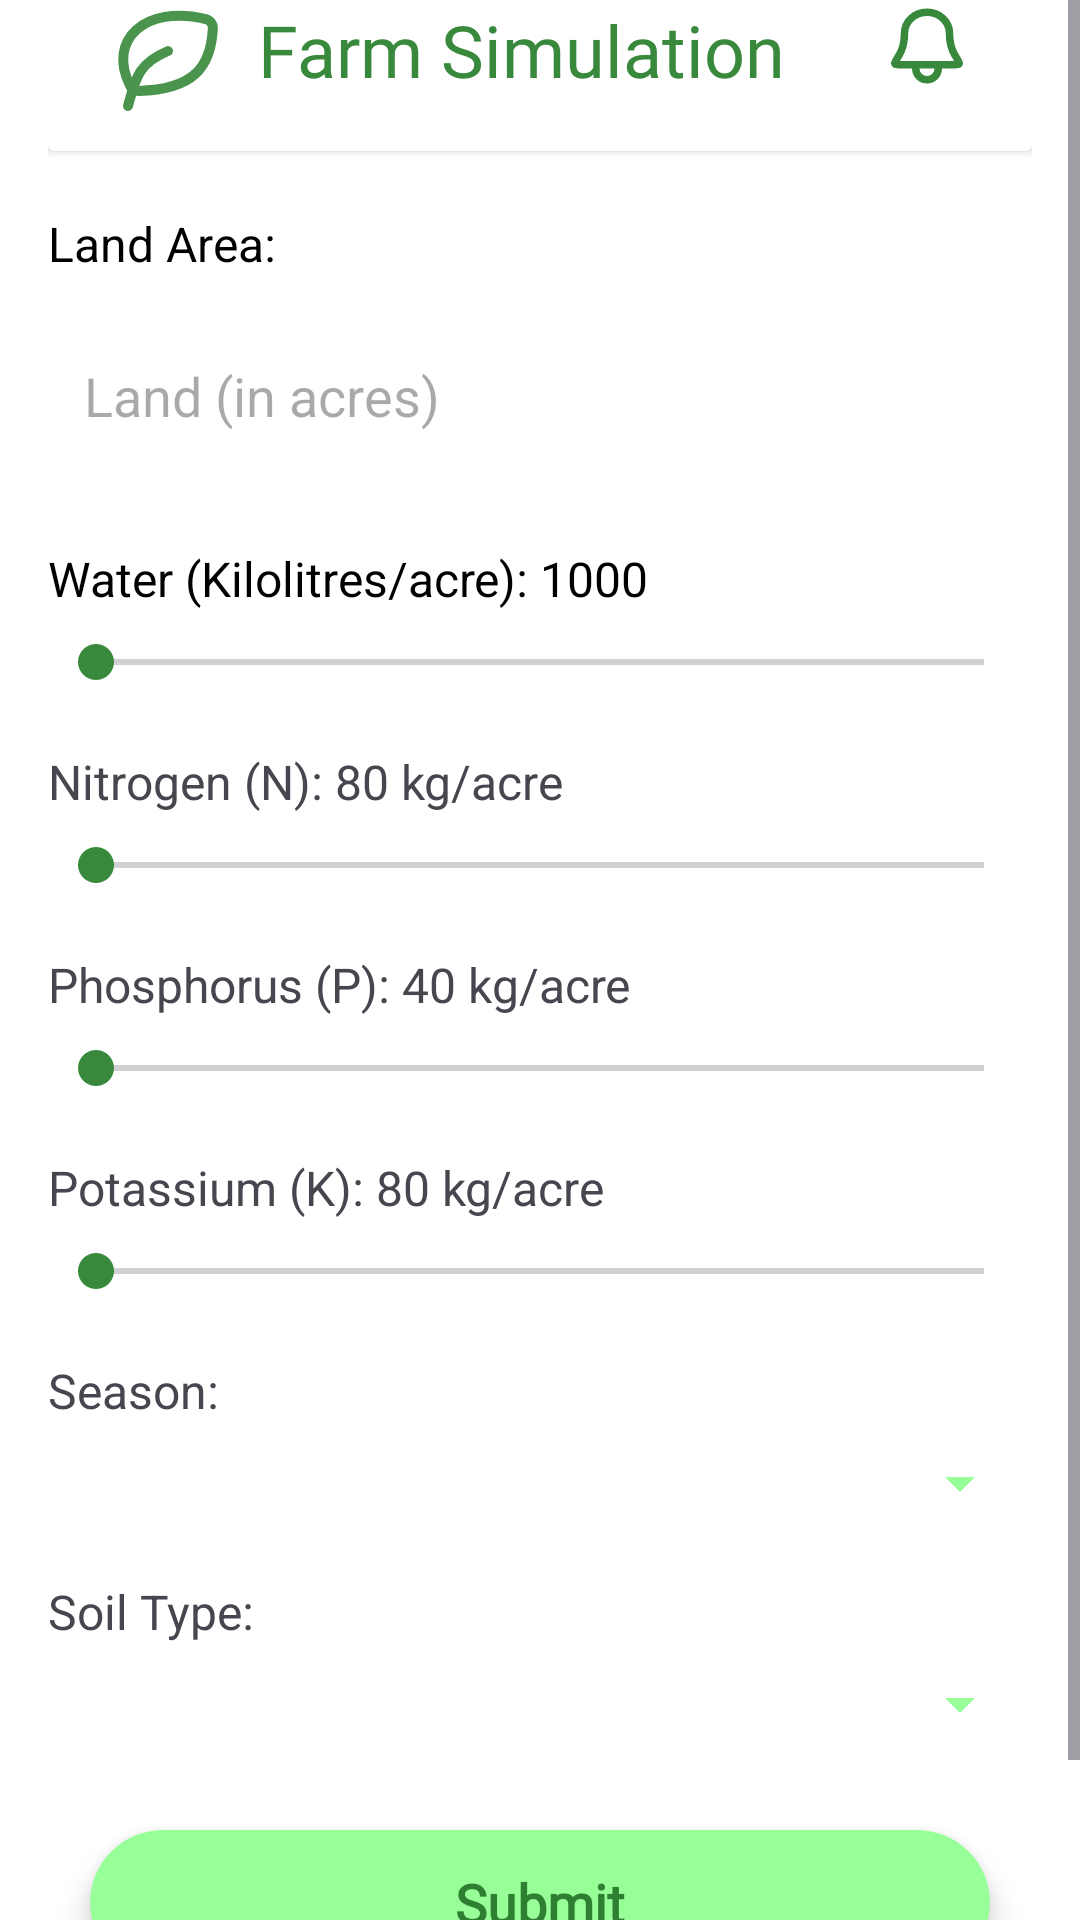

Screen size 1080 × 1920. Icon name, then its center in pixels as (x=x, y=y):
bell: (x=927, y=46)
leaf: (x=168, y=60)
